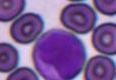M: (32, 29, 86, 79)
